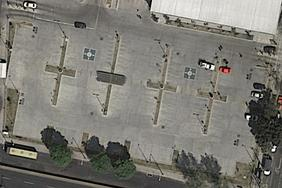parkingspot: (5, 24, 35, 91), (176, 150, 237, 178), (235, 111, 262, 166), (127, 141, 175, 166), (85, 132, 127, 157), (246, 66, 270, 108), (96, 32, 118, 75), (113, 35, 135, 78), (188, 96, 210, 136), (206, 100, 228, 140), (196, 54, 218, 93), (138, 87, 160, 126), (146, 46, 168, 85), (156, 90, 177, 130), (214, 57, 235, 96), (62, 35, 84, 72), (106, 83, 128, 120), (12, 120, 48, 142), (88, 80, 110, 116), (164, 48, 184, 87), (50, 126, 84, 148), (45, 33, 66, 68), (56, 75, 77, 110), (38, 71, 58, 107), (256, 42, 279, 56)
